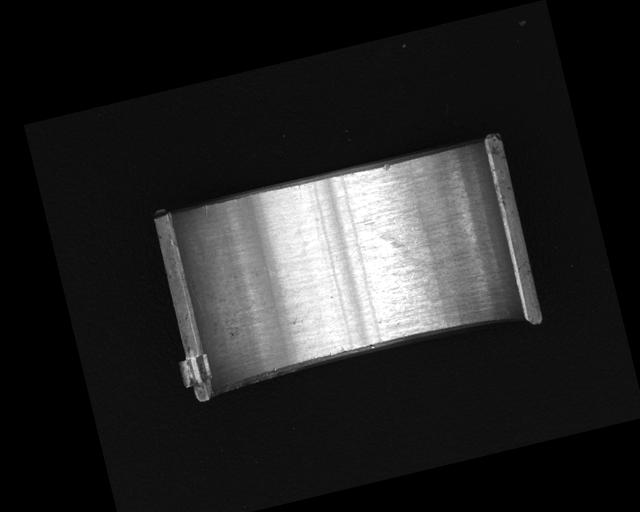bruise: (381, 162, 393, 173)
